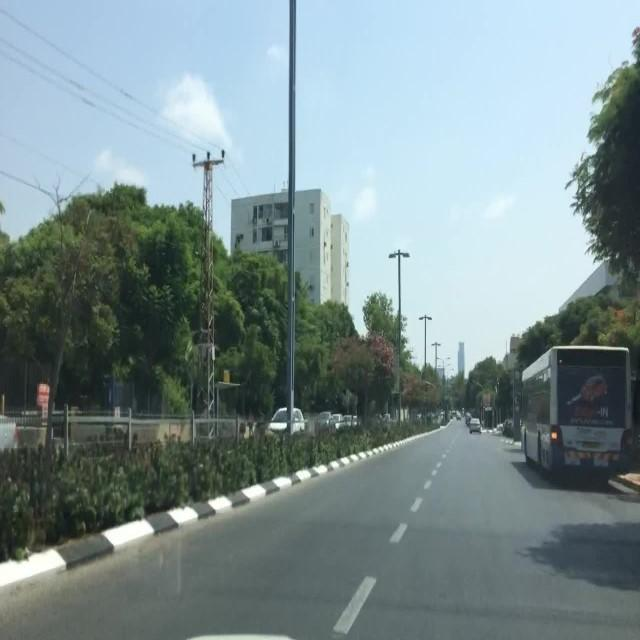normal: (520, 348, 638, 487), (265, 407, 305, 434), (466, 417, 481, 434), (493, 422, 504, 434)
